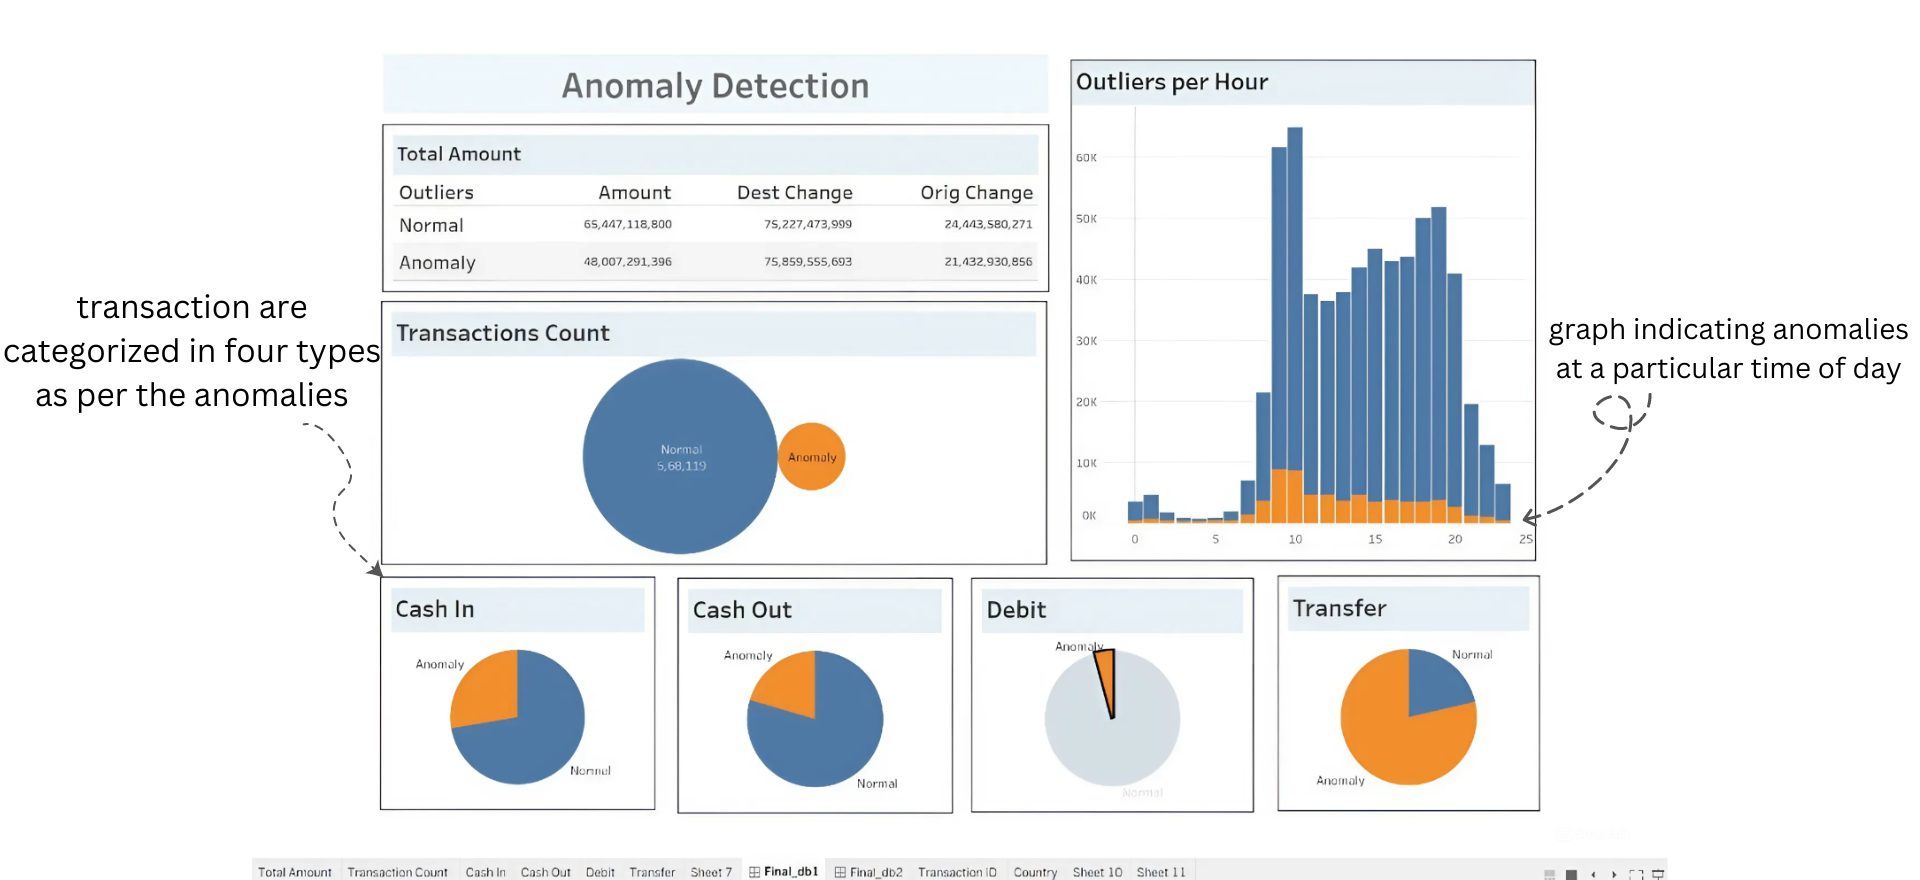

What the dashboard file says about the page in this screenshot:
{"tool":"tableau","page":{"name":"Final_db1","canvas":[1200,800],"ordinal":0},"visuals":[{"type":"text","box":[13,20,675,59]},{"type":"worksheet","title":"Sheet 7","mark":"Bar","rows":["iso_outliers"],"cols":["hour_of_day"],"box":[707,21,480,517]},{"type":"worksheet","title":"Total Amount","mark":"Automatic","rows":["iso_outliers"],"box":[2,81,697,190]},{"type":"worksheet","title":"Transaction Count","mark":"Circle","box":[1,260,696,288]},{"type":"worksheet","title":"Transfer","mark":"Pie","box":[911,539,286,259]},{"type":"worksheet","title":"Cash In","mark":"Pie","box":[0,540,299,257]},{"type":"legend","title":"Sheet 7","param":"[federated.1ij8d0x1pn2g1o1anv0uz1i3nz8k].[none:iso_outliers:ok]","box":[601,540,304,66]},{"type":"worksheet","title":"Cash Out","mark":"Pie","box":[302,541,299,259]},{"type":"worksheet","title":"Debit","mark":"Pie","box":[600,541,307,258]}]}

Visuals, with their boxes on the page's 1200x800 design canvas (x1, y1, x2, y2). These are canvas units, not pixel positions in the 1920x880 screenshot, which may show the page scaled, cropped or inside an application window:
text: (13,20,688,79)
"Sheet 7" worksheet (Bar marks): (707,21,1187,538)
"Total Amount" worksheet: (2,81,699,271)
"Transaction Count" worksheet (Circle marks): (1,260,697,548)
"Transfer" worksheet (Pie marks): (911,539,1197,798)
"Cash In" worksheet (Pie marks): (0,540,299,797)
"Sheet 7" legend: (601,540,905,606)
"Cash Out" worksheet (Pie marks): (302,541,601,800)
"Debit" worksheet (Pie marks): (600,541,907,799)
